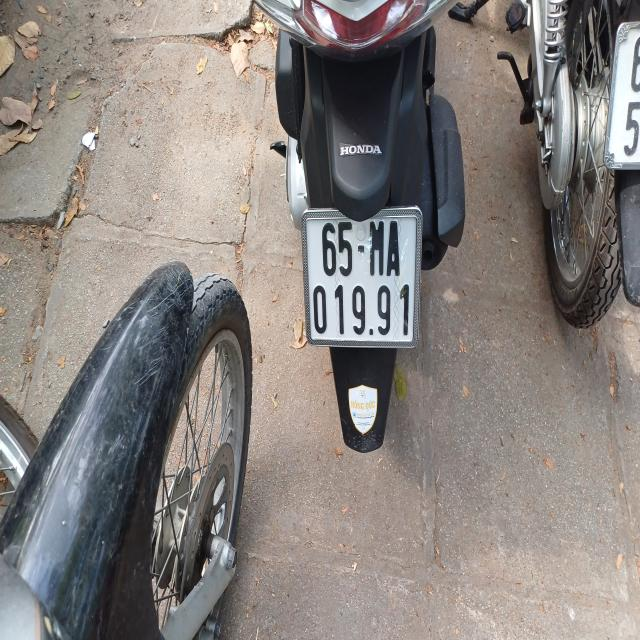0: (312, 284, 331, 333)
1: (333, 284, 345, 336), (400, 282, 409, 334)
5: (336, 216, 352, 278)
6: (322, 220, 338, 275)
9: (377, 284, 391, 336), (353, 285, 366, 338)
A: (386, 218, 400, 277)
M: (370, 220, 385, 279)
